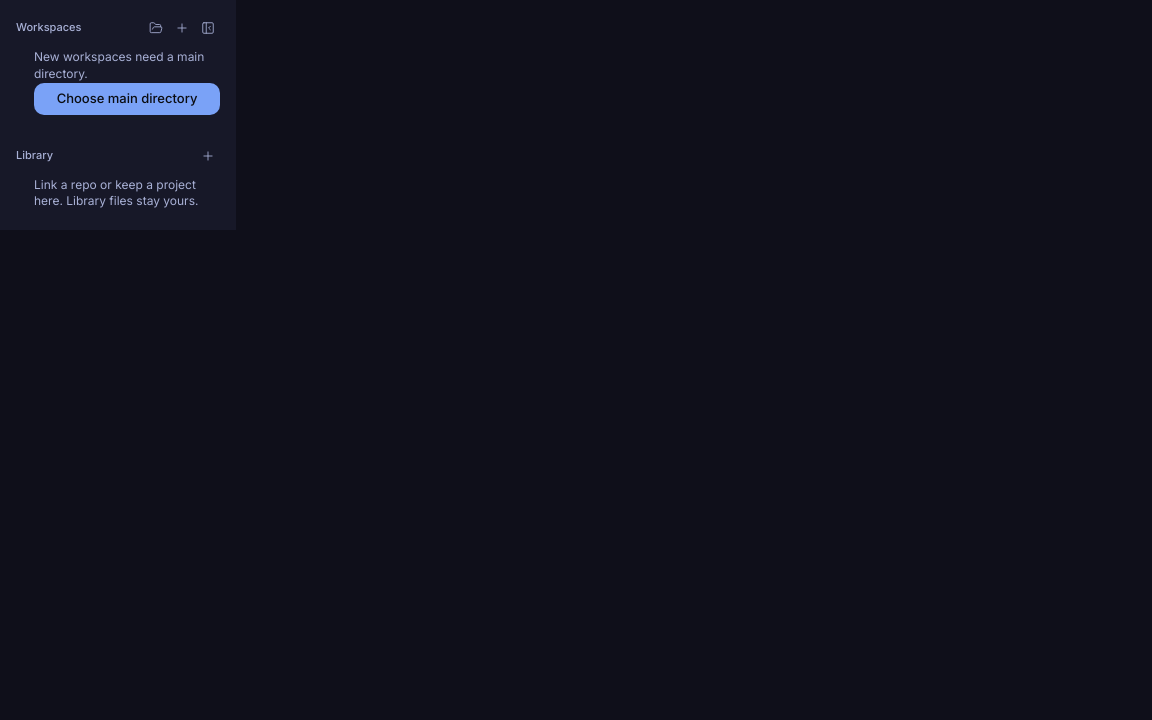
VerticalTabBar › opens setup instead of creating a workspace when no main directory is set
Click the button named "New workspace" at (182, 28), box top-left (170, 16), bottom-right (194, 40)
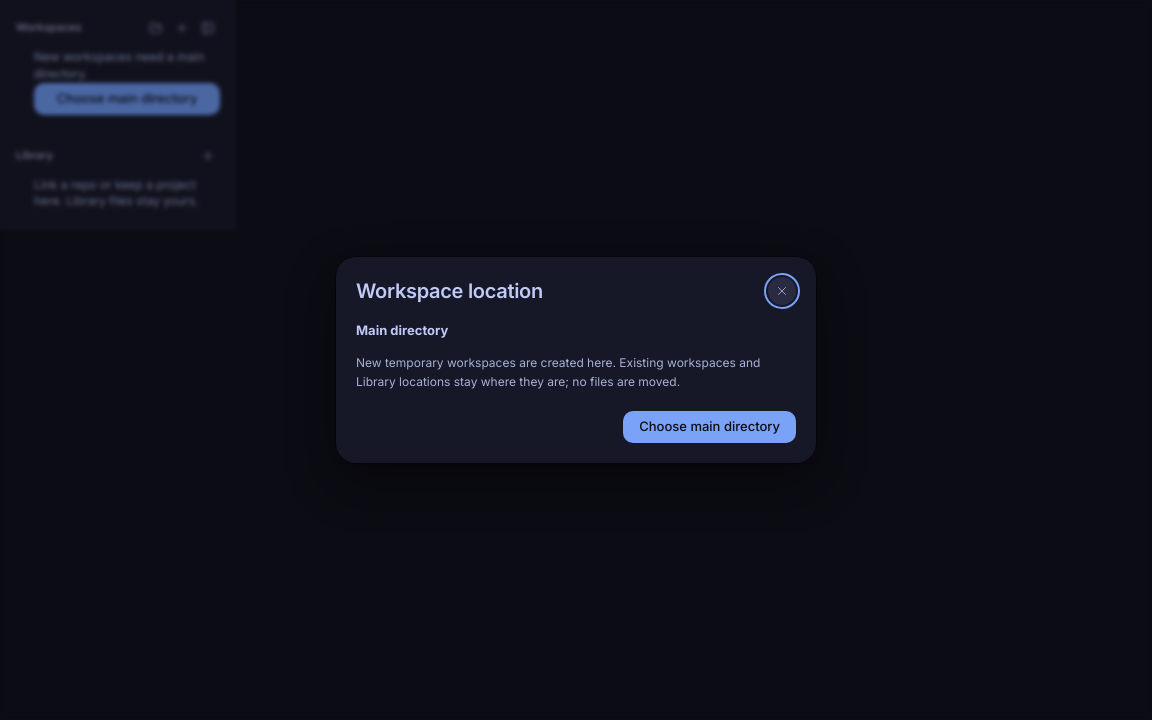
Expected: the dialog named "Main directory settings" is shown, top-left (336, 257), bottom-right (816, 463)
